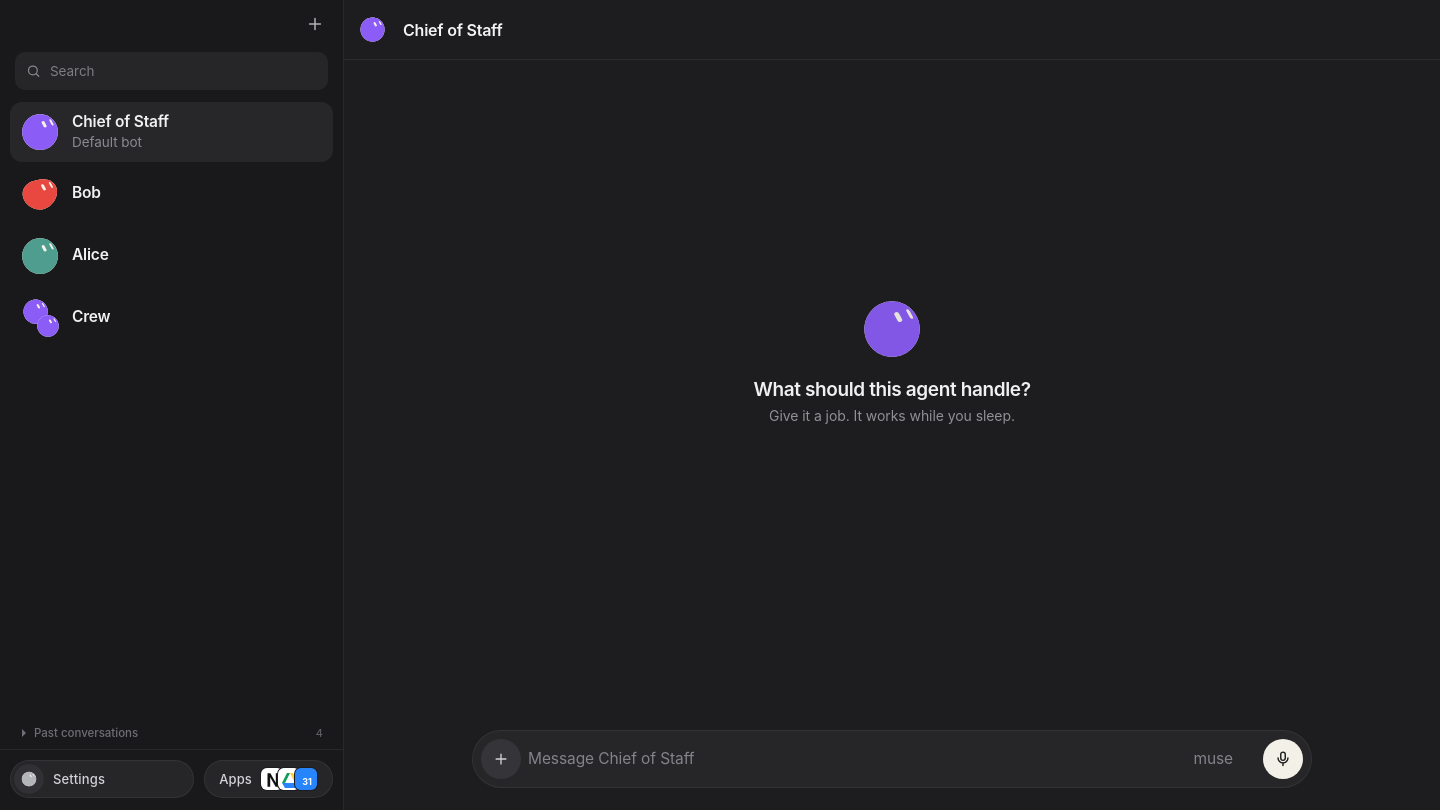
it: a round in a group › asks every member, and keeps the answers
This screenshot has width=1440, height=810.
Click the button "Crew" at coordinates (91, 316), box x1=10 y1=288 x2=333 y2=348
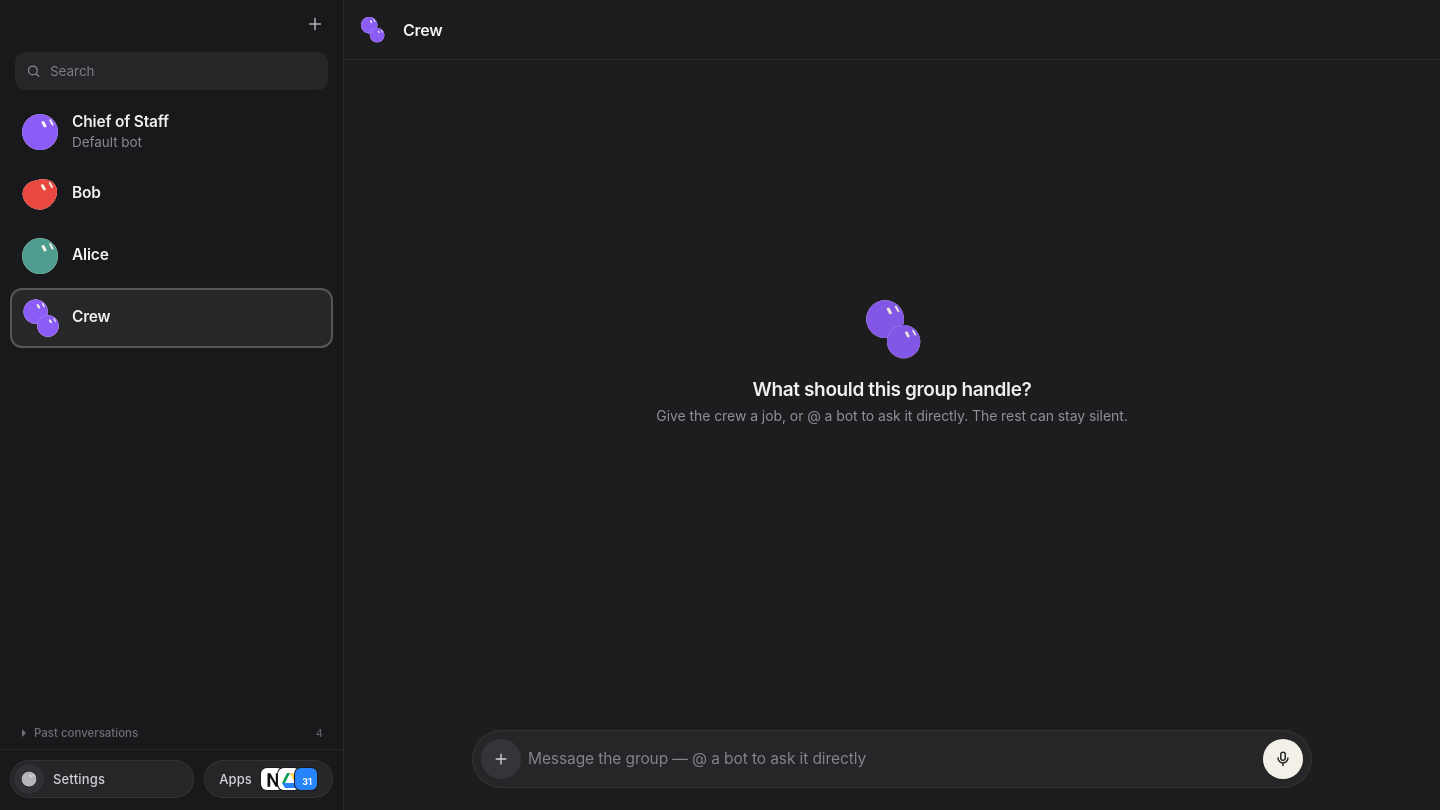
Type "Who has the floor?" into the text box labelled "Message the group — @ a bot to ask it directly" at coordinates (892, 759), box x1=525 y1=739 x2=1259 y2=779
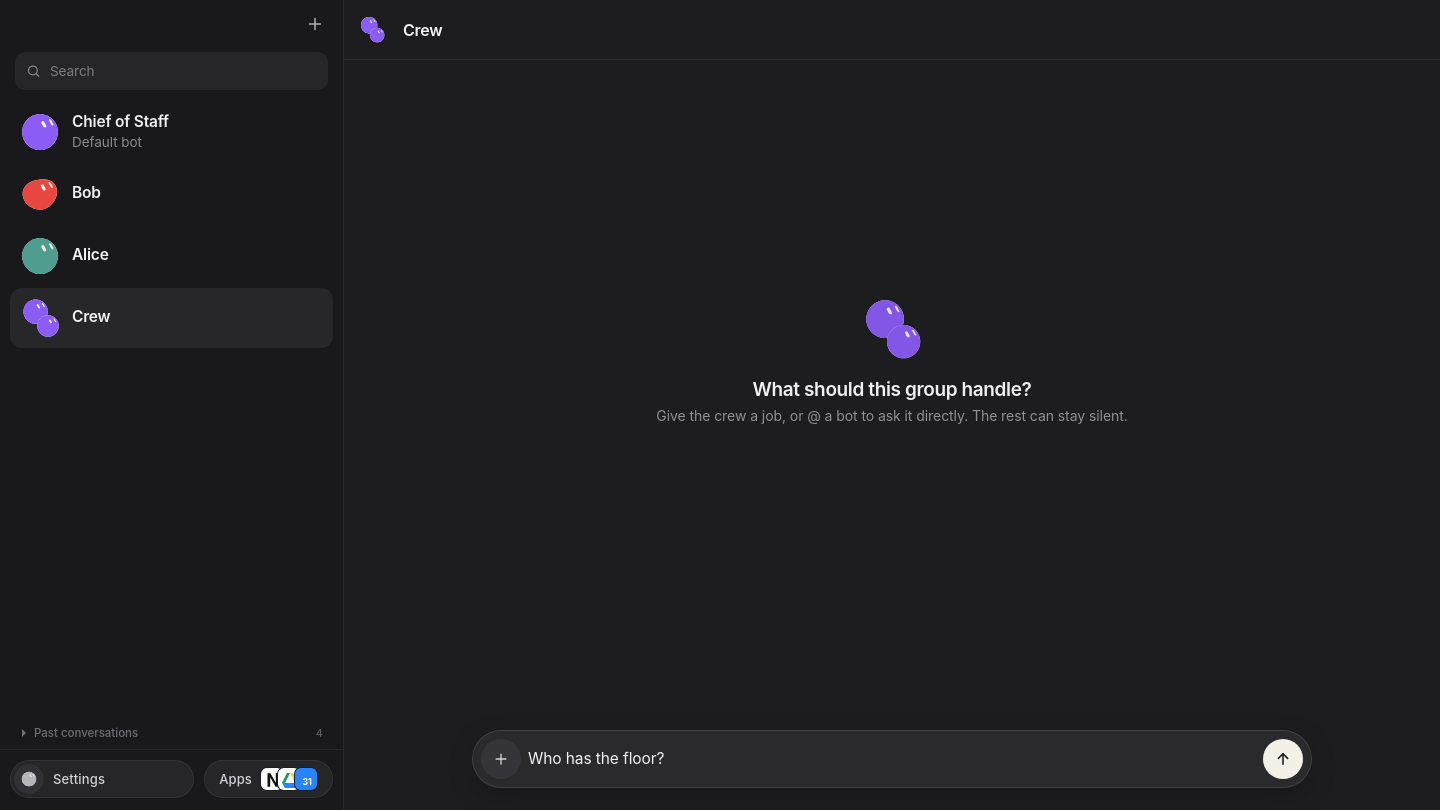
Press Enter
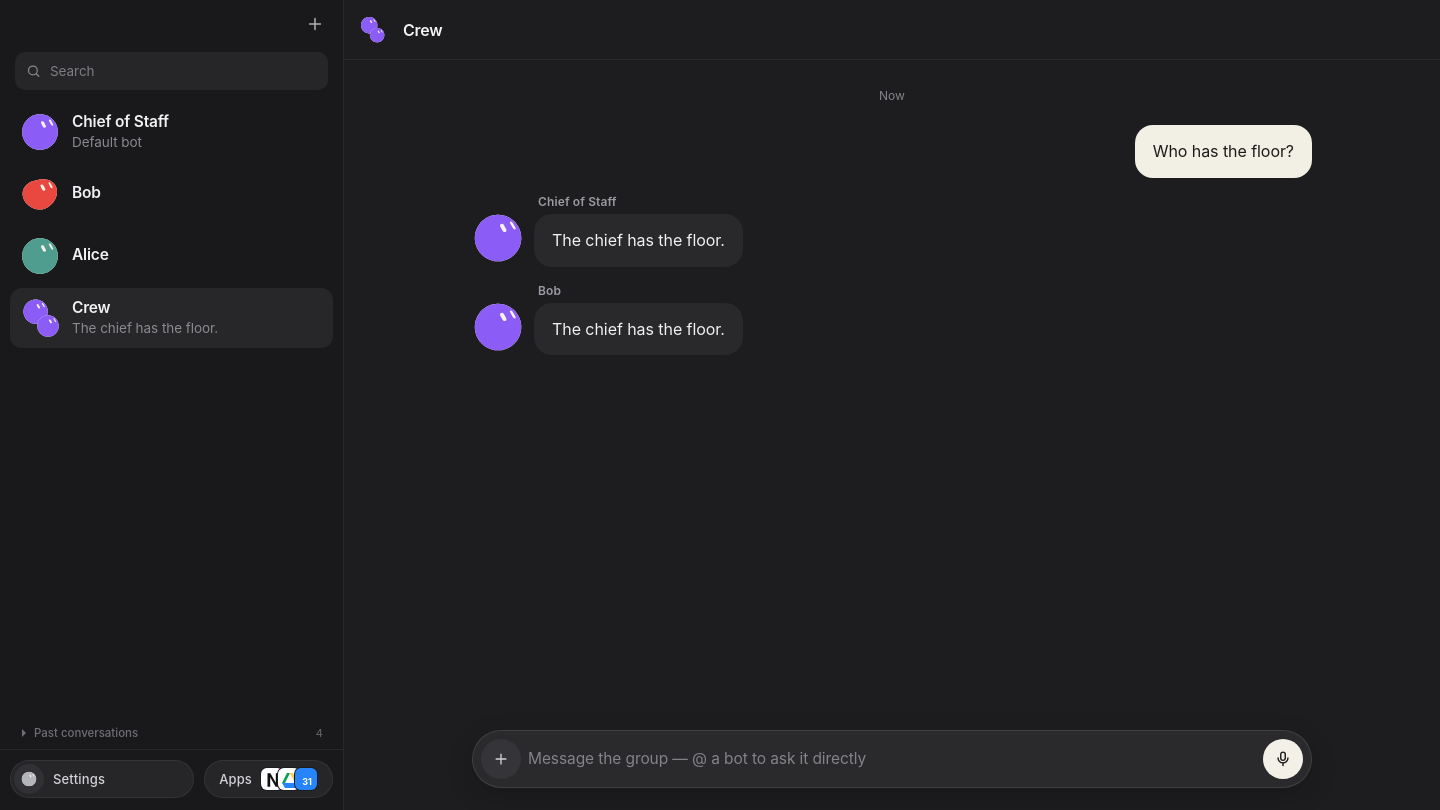
Expected: the 1st text "Chief of Staff" is shown, x1=72 y1=112 x2=169 y2=131
Now the 2nd text "The chief has the floor." is shown, box x1=72 y1=320 x2=218 y2=336
